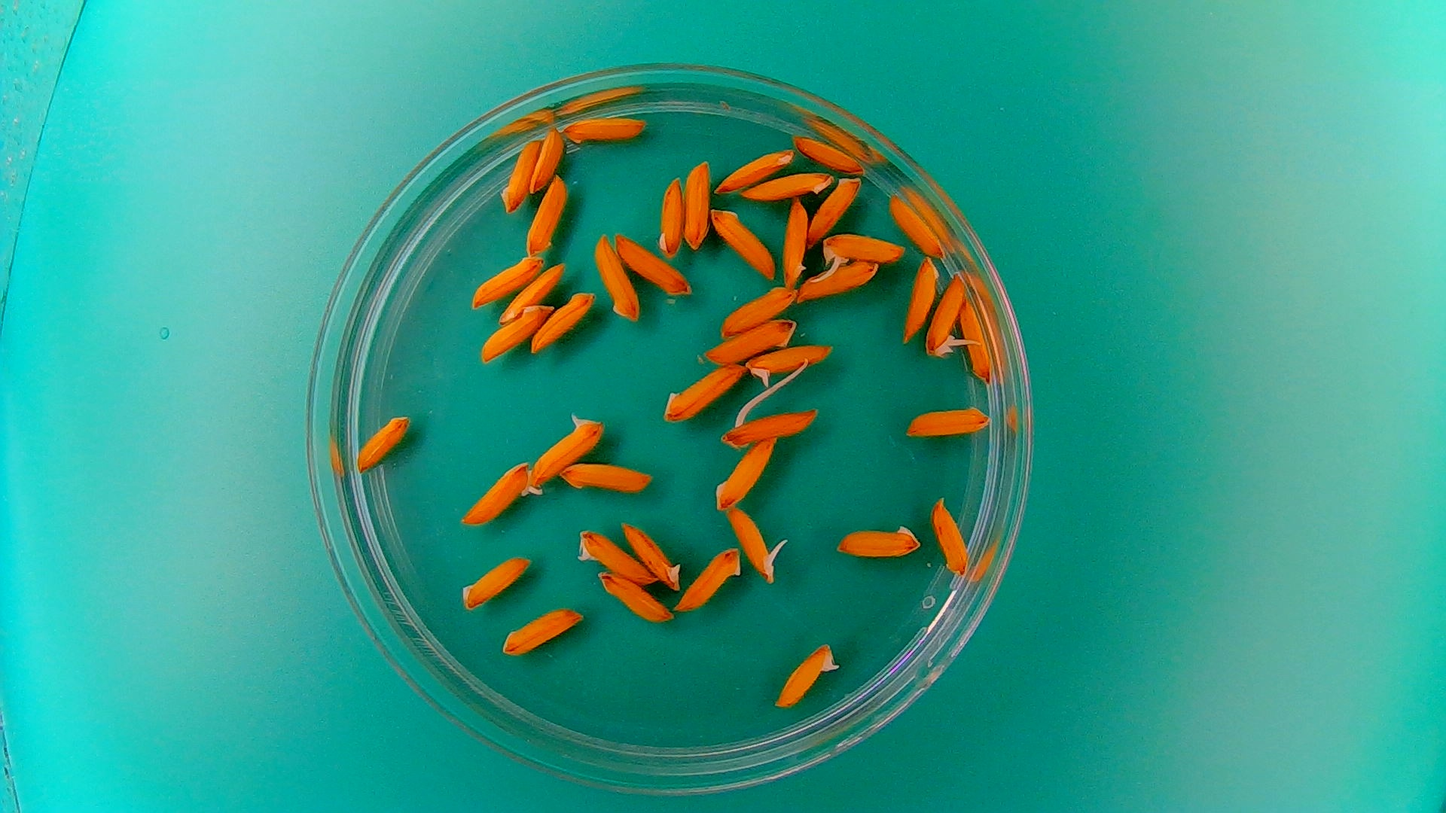no: (658, 359, 747, 426), (611, 229, 693, 297), (707, 205, 777, 280), (713, 434, 777, 513), (697, 315, 798, 365), (674, 543, 744, 614), (475, 303, 554, 364), (455, 551, 533, 612), (499, 603, 585, 658), (591, 232, 640, 324), (529, 286, 596, 353), (468, 251, 545, 309), (595, 569, 675, 624), (717, 282, 798, 336), (804, 173, 863, 245), (712, 144, 796, 194), (886, 190, 947, 257), (833, 519, 923, 561), (929, 492, 972, 577), (354, 410, 412, 473), (524, 173, 569, 254), (903, 400, 994, 440), (799, 257, 877, 303), (562, 458, 654, 495), (498, 136, 541, 214), (903, 256, 940, 343), (743, 167, 834, 202), (956, 295, 993, 380), (791, 133, 865, 175), (682, 154, 713, 251), (561, 111, 649, 144), (529, 125, 566, 195), (781, 196, 809, 288), (656, 172, 685, 257)
yes: (524, 409, 609, 489), (456, 456, 544, 525), (572, 525, 659, 584), (725, 503, 786, 583), (773, 639, 840, 711), (619, 517, 683, 590), (744, 340, 835, 389), (719, 403, 818, 447), (923, 272, 966, 358), (818, 228, 908, 269)
